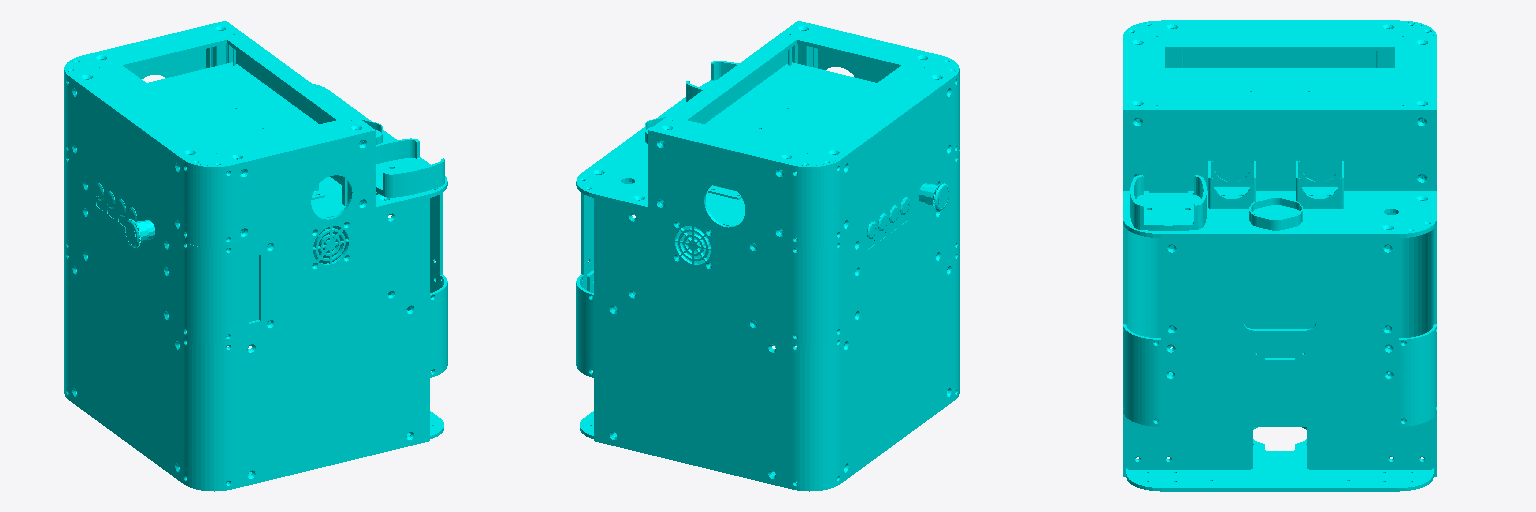
URDF robot description (testz):
<?xml version="1.0" ?>
<!-- =================================================================================== -->
<!-- |    This document was autogenerated by xacro from supertest.urdf.xacro           | -->
<!-- |    EDITING THIS FILE BY HAND IS NOT RECOMMENDED                                 | -->
<!-- =================================================================================== -->
<robot name="testz">
  <link name="base_footprint"/>
  <link name="base_link">
    <visual>
      <geometry>
        <mesh filename="package://warehousebot_simulation/meshes/bot_chassis.stl" scale="0.01 0.01 0.01"/>
      </geometry>
      <material name="Cyan">
        <color rgba="0 1.0 1.0 1.0"/>
      </material>
      <origin rpy="0 0 0" xyz="0 0 0"/>
    </visual>
    <collision name="base_collision">
      <geometry>
        <mesh filename="package://warehousebot_simulation/meshes/bot_chassis.stl" scale="0.01 0.01 0.01"/>
      </geometry>
      <origin rpy="0 0 0" xyz="0 0 0"/>
    </collision>
    <inertial>
      <mass value="550"/>
      <origin rpy="0 0 0" xyz="0 0 0 "/>
      <inertia ixx="220" ixy="0" ixz="0" iyy="220" iyz="0" izz="220"/>
    </inertial>
  </link>
  <joint name="base_footprint_to_base_link" type="fixed">
    <parent link="base_footprint"/>
    <child link="base_link"/>
    <origin xyz="0.0 0.0 0.05"/>
  </joint>
  `

  



</robot>

--- Facts derived from the render (not from the file) ---
Views: 3 orthographic renders of the robot side by side, from view 1: azimuth 30°, elevation 25°; view 2: azimuth 150°, elevation 25°; view 3: azimuth 270°, elevation 25°.
Model testz with 2 links and 1 joints (1 fixed), rooted at base_footprint, posed every joint at zero.
Links seen in each view (by area): view 1: base_link; view 2: base_link; view 3: base_link.
Link boxes in pixels (<box>): base_link: <box>64,21,447,491</box>; base_link: <box>576,21,959,491</box>; base_link: <box>1123,20,1436,491</box>.
Bounding box of the posed robot: 0.4413 × 0.409 × 0.488 m (x, y, z).
Meshes: 1 distinct files referenced, 1 mesh visuals loaded (1 binary STL).